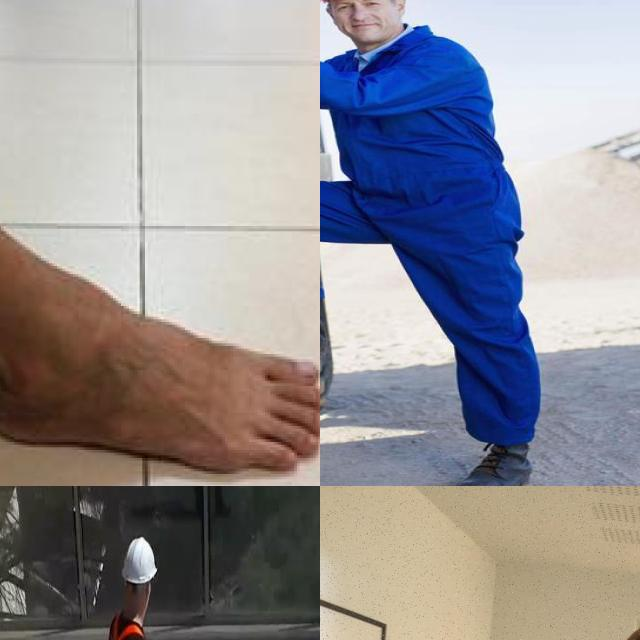Barefoots: (0, 263, 320, 485)
Harness: (109, 615, 142, 640)
No_Ear-Protection: (388, 0, 411, 21)
No_Glasses: (320, 0, 393, 13)
